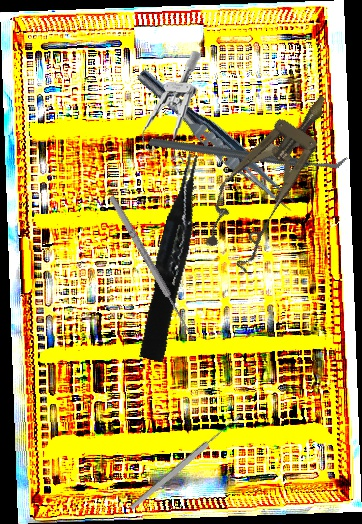Chopper: (147, 65, 350, 238)
Hook Surgical: (106, 191, 204, 343)
Speculum: (188, 77, 353, 274), (137, 46, 202, 175)
Surgical Spoon: (128, 412, 244, 512)
Tissue Forceps: (129, 64, 305, 218), (130, 152, 217, 363)
